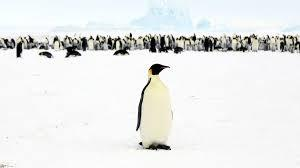emporer: (134, 64, 183, 156)
